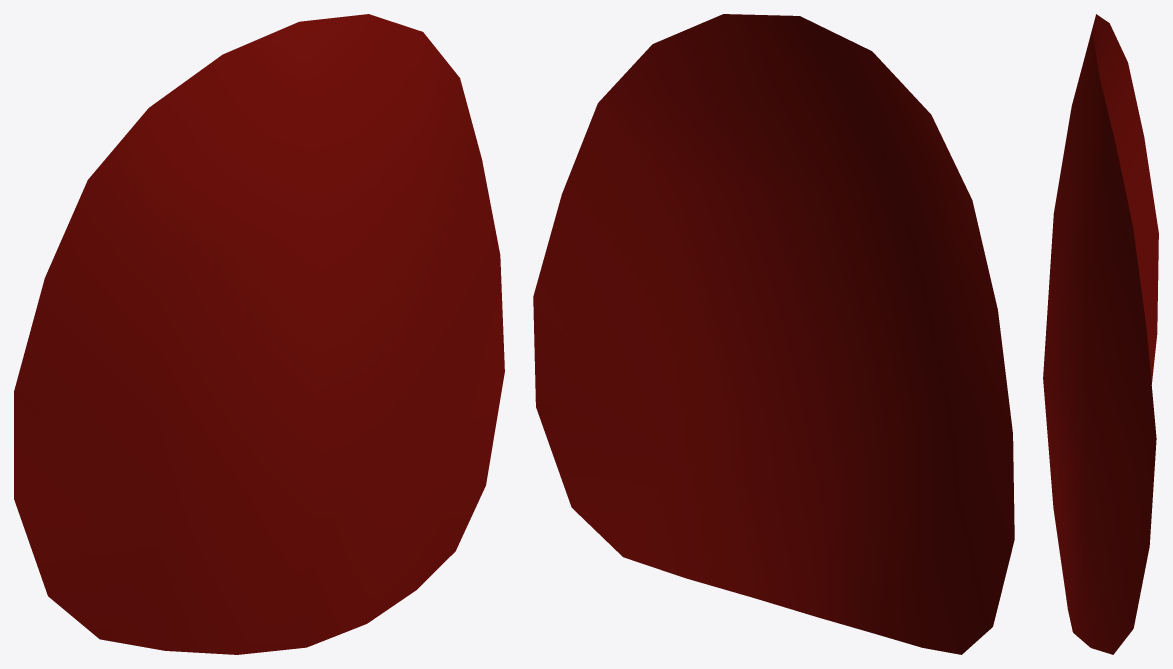
The model's file is MD_nail_natural_HandL.Thumb.fbx.
3 views of the same model, side by side, from view 1: azimuth 30°, elevation 25°; view 2: azimuth 150°, elevation 25°; view 3: azimuth 270°, elevation 25° (orthographic). The views are drawn at different scales.
Visible parts, largest first — view 1: MD_nail_natural_HandL.Thumb; view 2: MD_nail_natural_HandL.Thumb; view 3: MD_nail_natural_HandL.Thumb.
Boxes of the visible parts, <box> form: MD_nail_natural_HandL.Thumb: <box>14,14,504,654</box>; MD_nail_natural_HandL.Thumb: <box>533,14,1014,654</box>; MD_nail_natural_HandL.Thumb: <box>1043,14,1158,654</box>.
Size of the model in its own units: 0.8963 by 1.08 by 0.1962.
